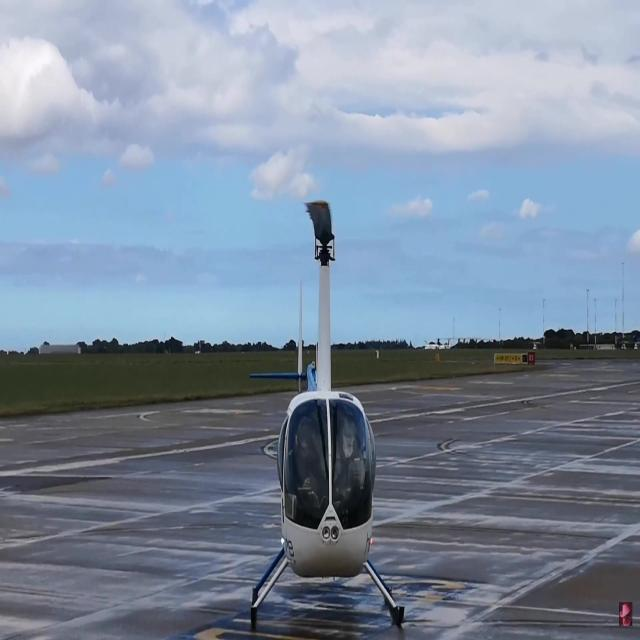CIV_HELO: (250, 209, 407, 631)
